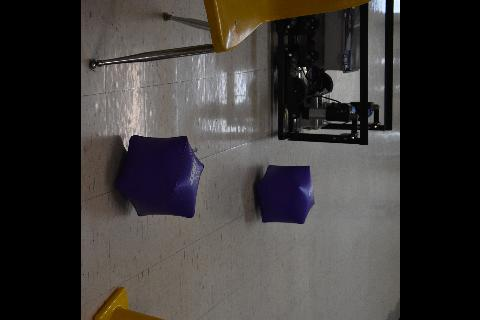cone: (93, 286, 209, 320)
cube: (116, 136, 204, 218), (256, 166, 314, 224)
